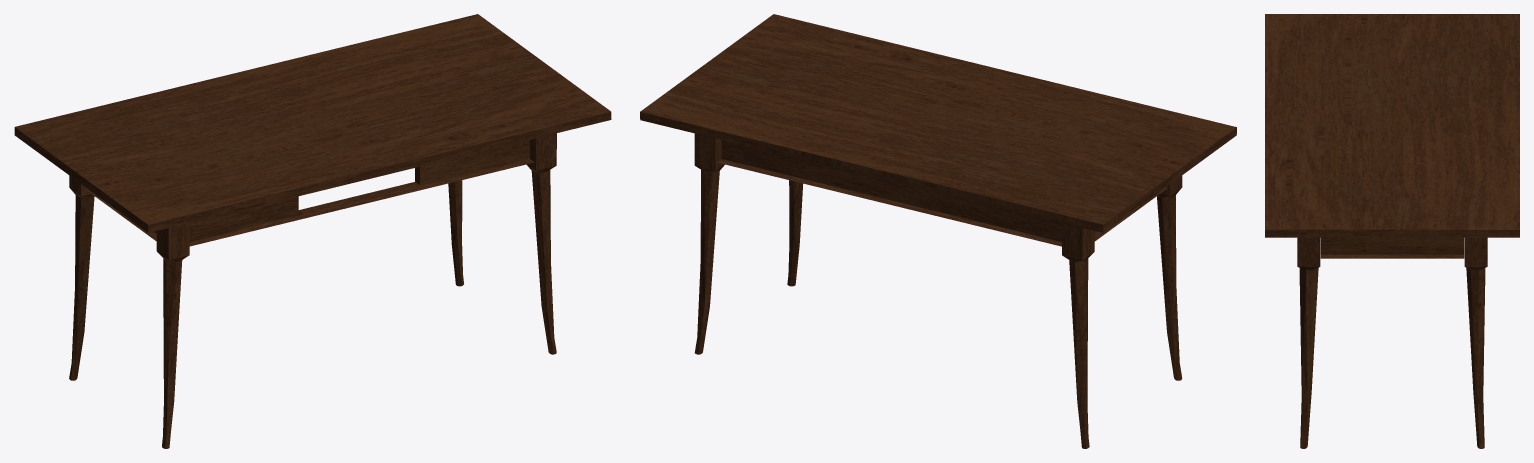
The model's file is table.001_collider.fbx.
The picture shows the model from 3 angles, left to right: view 1: azimuth 30°, elevation 25°; view 2: azimuth 150°, elevation 25°; view 3: azimuth 270°, elevation 25°; orthographic projection. The views are drawn at different scales.
Parts seen in each view (by area): view 1: Table_001_collider; view 2: Table_001_collider; view 3: Table_001_collider.
Part boxes in pixels (x1,y1,x2,y2): Table_001_collider: (14, 14, 611, 448); Table_001_collider: (640, 14, 1236, 448); Table_001_collider: (1265, 14, 1519, 448).
Size of the model in its own units: 1.56 by 0.7923 by 0.7768.
